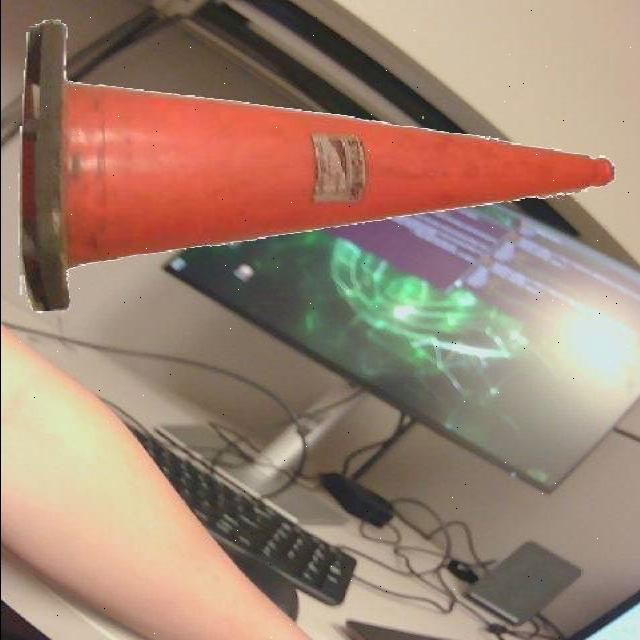traffic cone: (10, 12, 628, 323)
